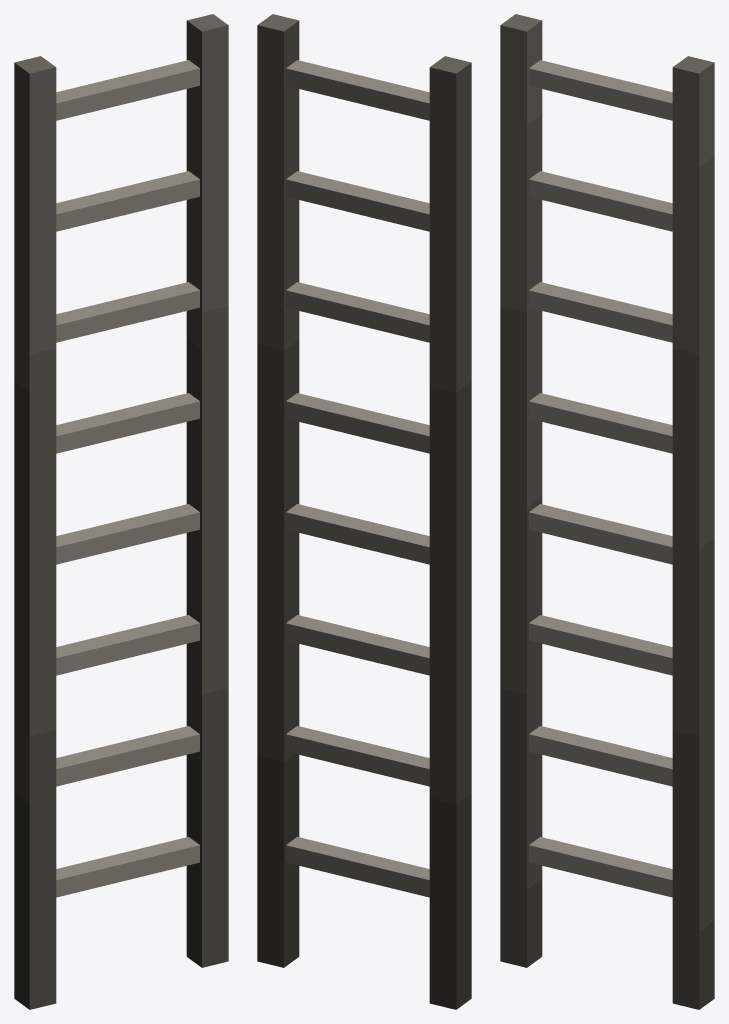
The model's file is ladder_stone.glb.
3 views of the same model, side by side, from view 1: azimuth 30°, elevation 25°; view 2: azimuth 150°, elevation 25°; view 3: azimuth 330°, elevation 25° (orthographic).
Size of the model in its own units: 0.6 by 2.7 by 0.08.
1 material, 1 textured.
